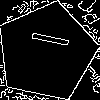I: (21, 26, 70, 50)
